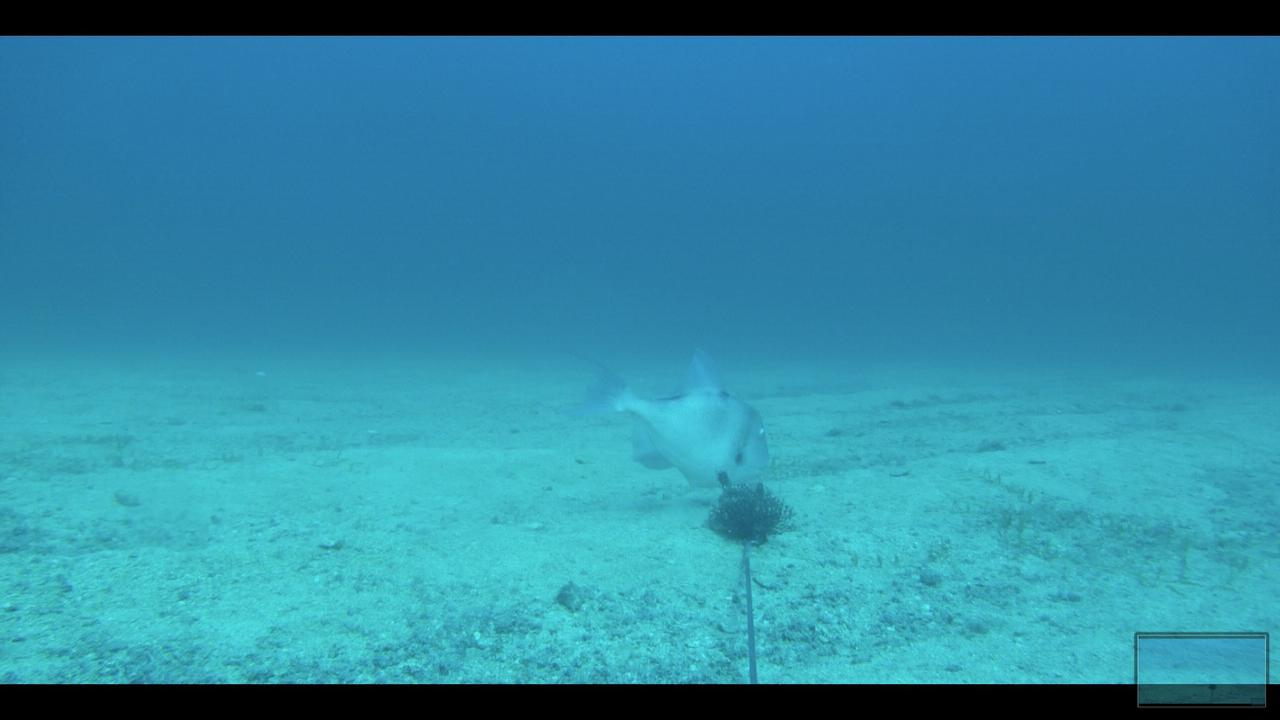balistes: (557, 340, 774, 492)
